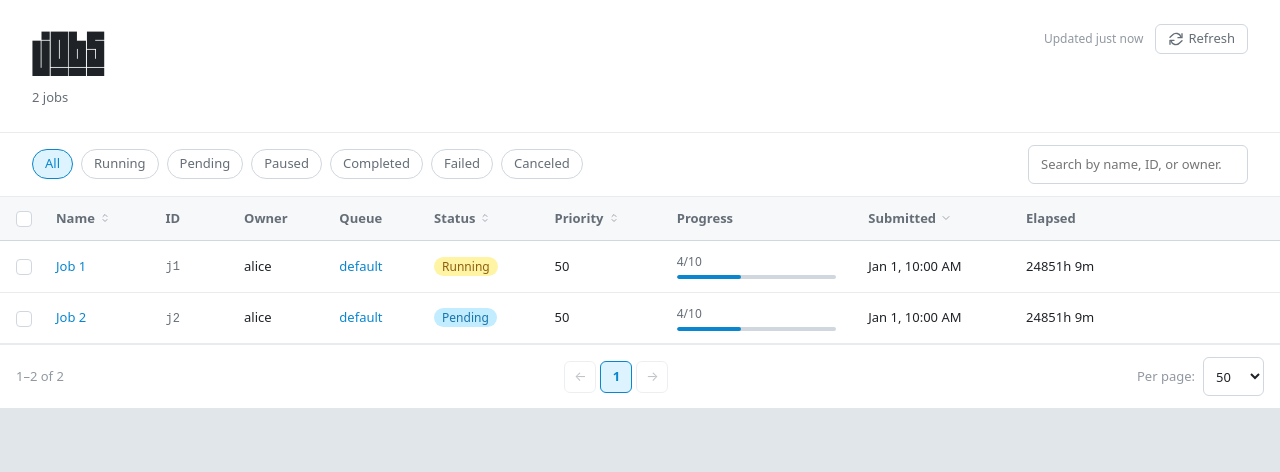
Scenario: JobList › bulk cancel › select-all checkbox selects all cancelable rows
Expected: the link "Job 1" is shown, [56,256,86,274]
Click the checkbox named "Select all jobs": (24, 219) [16,211,32,227]
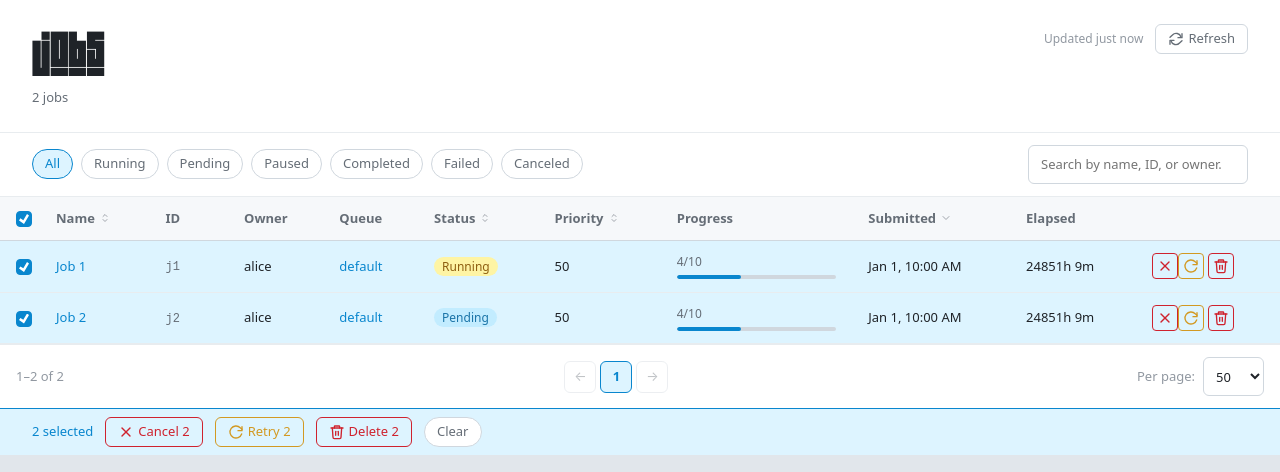
Expected: the text "2 selected" is shown, [32,422,93,442]
